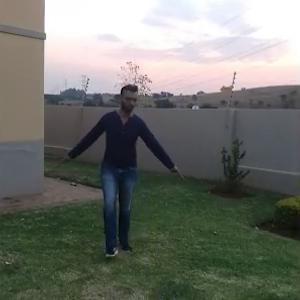land: (60, 63, 215, 282)
